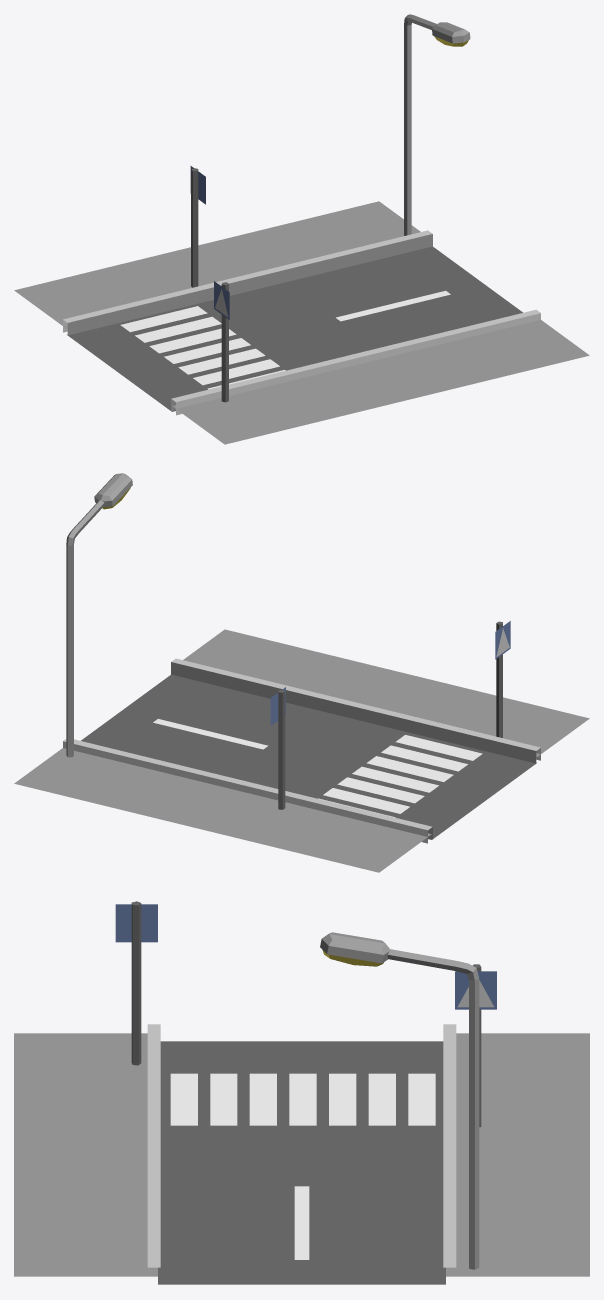
File: road_tile_1x1_002.fbx
The picture shows the model from 3 angles, top to bottom: view 1: azimuth 30°, elevation 25°; view 2: azimuth 150°, elevation 25°; view 3: azimuth 270°, elevation 25°; orthographic projection. The views are drawn at different scales.
Visible parts, largest first — view 1: road_tile_1x1_002; view 2: road_tile_1x1_002; view 3: road_tile_1x1_002.
Part boxes in pixels (left/top/right/bottom): road_tile_1x1_002: left=14, top=14, right=589, bottom=444; road_tile_1x1_002: left=14, top=473, right=589, bottom=872; road_tile_1x1_002: left=14, top=901, right=589, bottom=1284.
Bounding box in the file's own units: 800 × 525 × 800.
